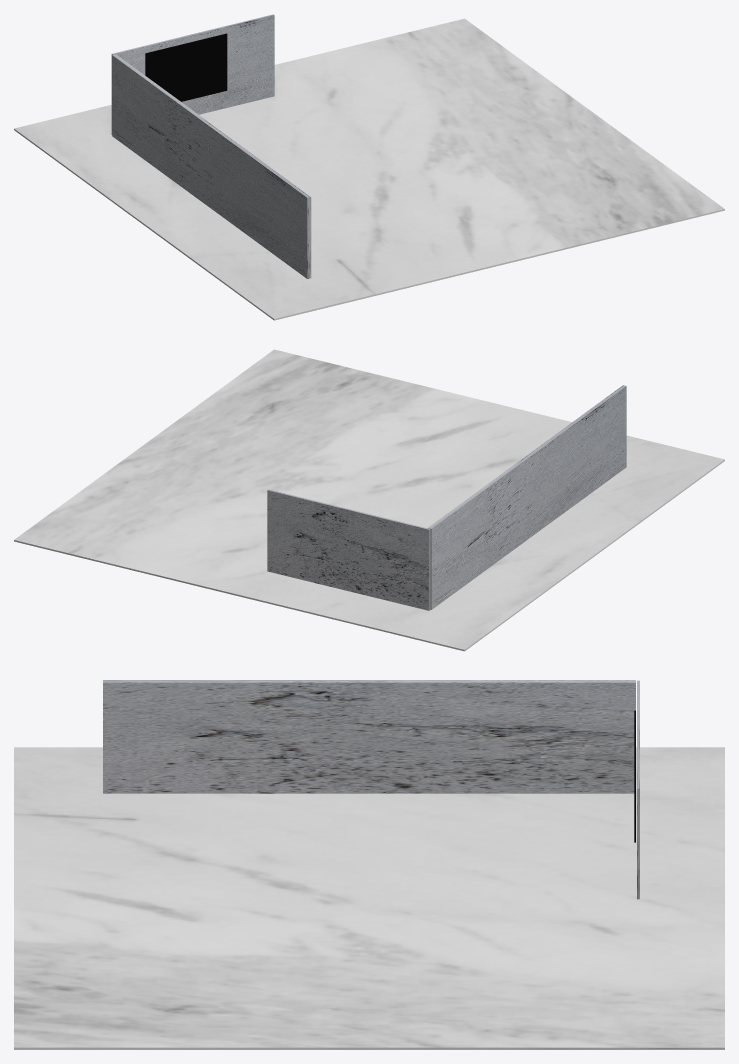
The model's file is wallsAndFloor6_Nov18.glb.
The picture shows the model from 3 angles, top to bottom: view 1: azimuth 30°, elevation 25°; view 2: azimuth 150°, elevation 25°; view 3: azimuth 270°, elevation 25°; orthographic projection. The views are drawn at different scales.
Parts seen in each view (by area): view 1: Floor, LeftWall, FrontWall, whiteboard; view 2: Floor, LeftWall, FrontWall; view 3: Floor, LeftWall, FrontWall.
Part boxes in pixels (bbox=[...]): Floor: bbox=[14, 18, 724, 320]; LeftWall: bbox=[112, 54, 311, 278]; FrontWall: bbox=[111, 14, 274, 134]; whiteboard: bbox=[145, 33, 227, 101]; Floor: bbox=[14, 349, 724, 651]; LeftWall: bbox=[428, 385, 626, 609]; FrontWall: bbox=[267, 489, 430, 610]; Floor: bbox=[14, 747, 724, 1049]; LeftWall: bbox=[103, 680, 635, 793]; FrontWall: bbox=[637, 680, 639, 899].
Size of the model in its own units: 60 by 10.53 by 60.
4 materials, 3 textured.
